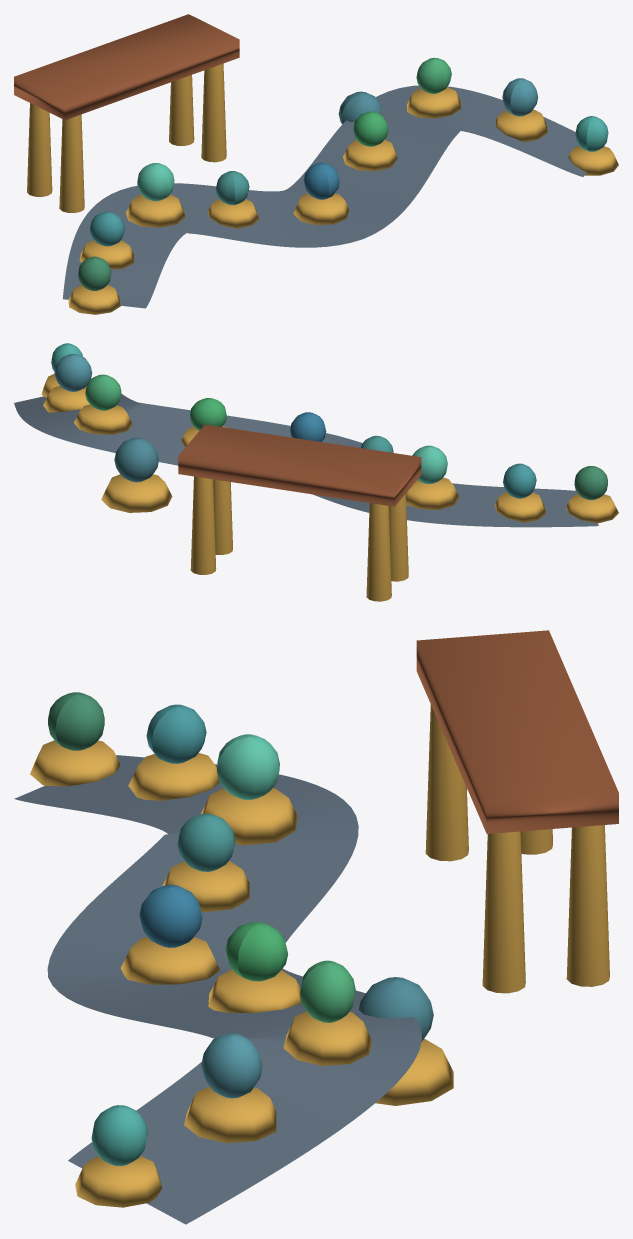
File: starter-atelier.runtime.glb
3 renders of one model, top to bottom at view 1: azimuth 30°, elevation 25°; view 2: azimuth 150°, elevation 25°; view 3: azimuth 270°, elevation 25°, orthographic. The views are drawn at different scales.
Parts seen in each view (by area): view 1: spline--spline-gallery, scene-part--instance-console--part-top, placement-part--placement-spline-markers_u3a_2--part-marker- (×2), placement-part--placement-spline-markers_u3a_4--part-marker- (×2), placement-part--placement-spline-markers_u3a_6--part-marker- (×2), placement-part--placement-spline-markers_u3a_7--part-marker- (×2), placement-part--placement-spline-markers_u3a_5--part-marker- (×2), scene-part--instance-console--part-leg-c, scene-part--instance-console--part-leg-d, placement-part--placement-spline-markers_u3a_0--part-marker- (×2), scene-part--instance-console--part-leg-a, placement-part--placement-spline-markers_u3a_3--part-marker- (×2) (+4 smaller); view 2: scene-part--instance-console--part-top, spline--spline-gallery, placement-part--placement-spline-markers_u3a_6--part-marker- (×2), placement-part--placement-spline-markers_u3a_2--part-marker- (×2), scene-part--instance-console--part-leg-a, scene-part--instance-console--part-leg-b, placement-part--placement-spline-markers_u3a_1--part-marker- (×2), placement-part--placement-spline-markers_u3a_0--part-marker- (×2), scene-part--instance-marker--part-marker-base, placement-part--placement-spline-markers_u3a_7--part-marker- (×2), scene-part--instance-marker--part-marker-orb, scene-part--instance-console--part-leg-c (+5 smaller); view 3: spline--spline-gallery, scene-part--instance-console--part-top, placement-part--placement-spline-markers_u3a_7--part-marker- (×2), placement-part--placement-spline-markers_u3a_2--part-marker- (×2), placement-part--placement-spline-markers_u3a_4--part-marker- (×2), placement-part--placement-spline-markers_u3a_6--part-marker- (×2), scene-part--instance-console--part-leg-d, scene-part--instance-console--part-leg-b, placement-part--placement-spline-markers_u3a_8--part-marker- (×2), placement-part--placement-spline-markers_u3a_5--part-marker- (×2), placement-part--placement-spline-markers_u3a_1--part-marker- (×2), placement-part--placement-spline-markers_u3a_0--part-marker- (×2) (+4 smaller).
Boxes of the visible parts, box(x1,y1,x2,y2) form: spline--spline-gallery: box(63, 85, 604, 308); scene-part--instance-console--part-top: box(14, 14, 239, 119); placement-part--placement-spline-markers_u3a_2--part-marker- (×2): box(126, 163, 185, 227); placement-part--placement-spline-markers_u3a_4--part-marker- (×2): box(293, 162, 349, 224); placement-part--placement-spline-markers_u3a_6--part-marker- (×2): box(407, 57, 461, 118); placement-part--placement-spline-markers_u3a_7--part-marker- (×2): box(495, 78, 547, 141); placement-part--placement-spline-markers_u3a_5--part-marker- (×2): box(343, 111, 397, 171); scene-part--instance-console--part-leg-c: box(59, 114, 84, 212); scene-part--instance-console--part-leg-d: box(201, 63, 226, 162); placement-part--placement-spline-markers_u3a_0--part-marker- (×2): box(68, 256, 120, 314); scene-part--instance-console--part-leg-a: box(27, 103, 52, 196); placement-part--placement-spline-markers_u3a_3--part-marker- (×2): box(207, 171, 259, 228); scene-part--instance-console--part-top: box(178, 424, 421, 506); spline--spline-gallery: box(14, 393, 598, 527); placement-part--placement-spline-markers_u3a_6--part-marker- (×2): box(74, 374, 132, 434); placement-part--placement-spline-markers_u3a_2--part-marker- (×2): box(406, 445, 459, 509); scene-part--instance-console--part-leg-a: box(366, 503, 391, 601); scene-part--instance-console--part-leg-b: box(190, 476, 216, 574); placement-part--placement-spline-markers_u3a_1--part-marker- (×2): box(494, 463, 546, 522); placement-part--placement-spline-markers_u3a_0--part-marker- (×2): box(565, 466, 618, 523); scene-part--instance-marker--part-marker-base: box(101, 474, 172, 512); placement-part--placement-spline-markers_u3a_7--part-marker- (×2): box(43, 354, 92, 412); scene-part--instance-marker--part-marker-orb: box(114, 437, 158, 482); scene-part--instance-console--part-leg-c: box(389, 494, 408, 581); spline--spline-gallery: box(14, 755, 421, 1224); scene-part--instance-console--part-top: box(416, 630, 618, 833); placement-part--placement-spline-markers_u3a_7--part-marker- (×2): box(184, 1033, 276, 1142); placement-part--placement-spline-markers_u3a_2--part-marker- (×2): box(201, 734, 297, 845); placement-part--placement-spline-markers_u3a_4--part-marker- (×2): box(120, 884, 220, 984); placement-part--placement-spline-markers_u3a_6--part-marker- (×2): box(283, 960, 372, 1065); scene-part--instance-console--part-leg-d: box(482, 831, 525, 993); scene-part--instance-console--part-leg-b: box(566, 825, 609, 986); placement-part--placement-spline-markers_u3a_8--part-marker- (×2): box(75, 1105, 162, 1207); placement-part--placement-spline-markers_u3a_5--part-marker- (×2): box(208, 922, 301, 1012); placement-part--placement-spline-markers_u3a_1--part-marker- (×2): box(128, 704, 219, 800); placement-part--placement-spline-markers_u3a_0--part-marker- (×2): box(30, 692, 120, 786).
Bounding box in the file's own units: 9.15 × 1.79 × 4.95.
